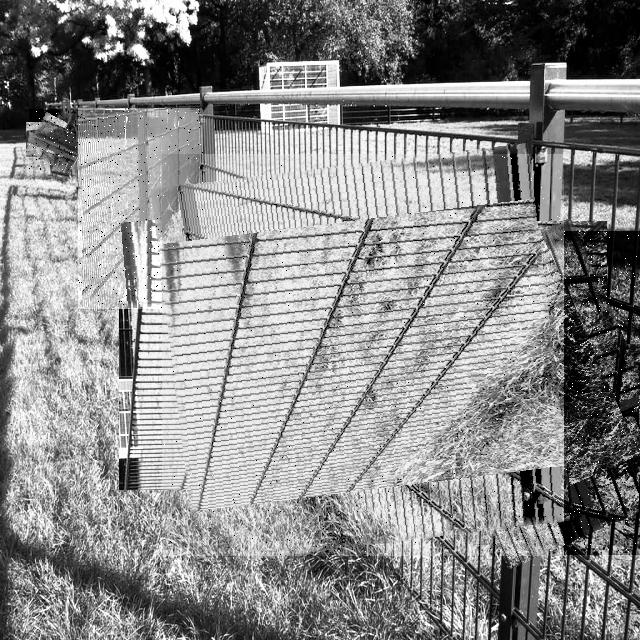fences: (162, 154, 564, 556), (414, 231, 640, 555), (78, 108, 203, 309), (29, 109, 90, 170)
